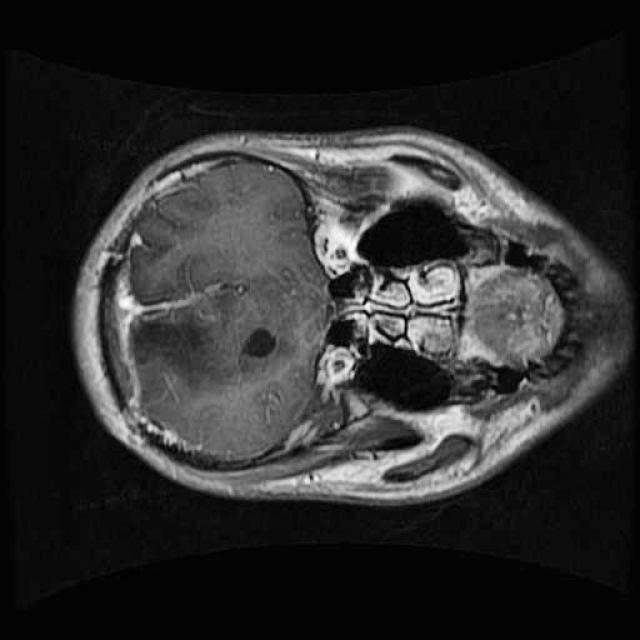Non-Tumor: (120, 225, 305, 409)
